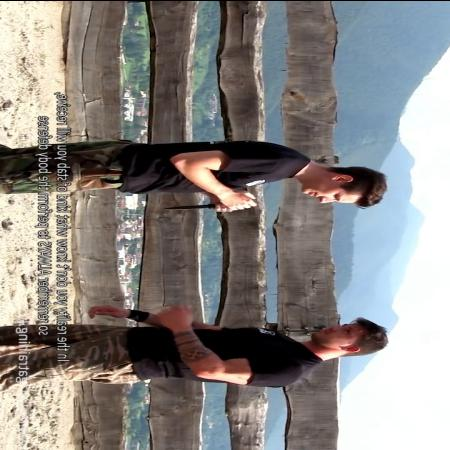long weapon: (160, 194, 260, 213)
